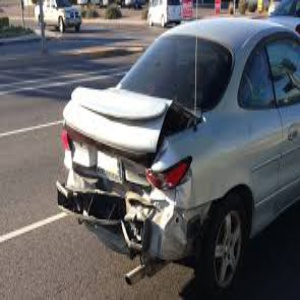bonnet: (61, 84, 171, 155)
bumper: (91, 193, 190, 257)
